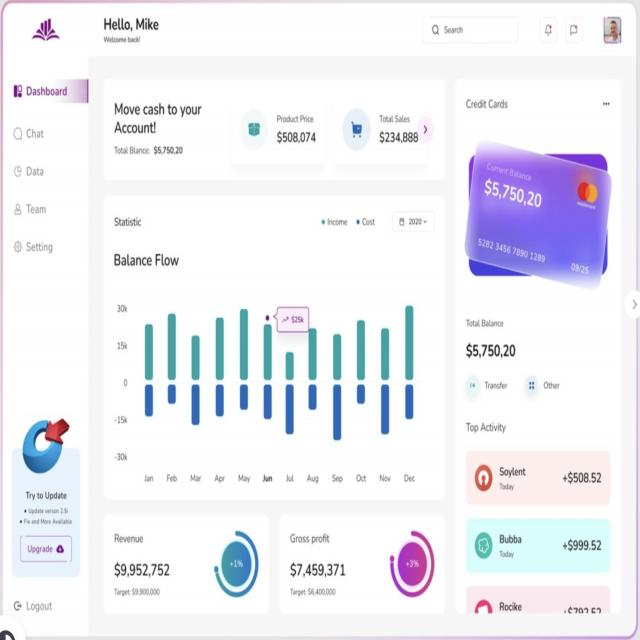button: (21, 534, 72, 563)
input: (423, 15, 518, 45)
